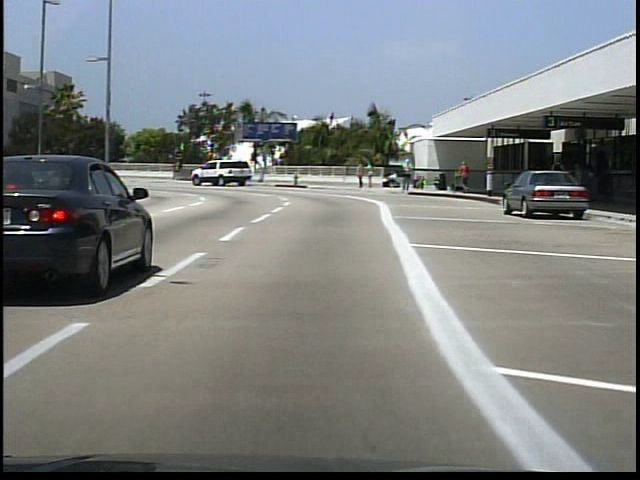person: (548, 154, 570, 207), (459, 160, 474, 193), (404, 158, 416, 196), (357, 162, 368, 191), (367, 161, 376, 191)
